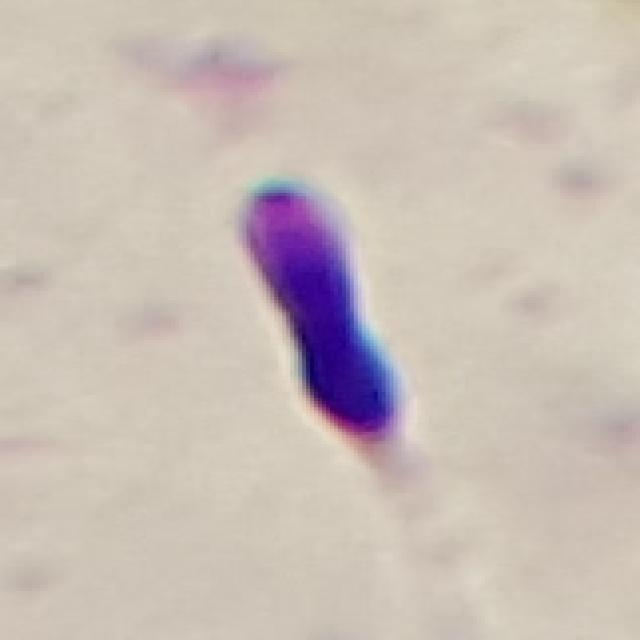abnormal sperm: (242, 180, 438, 565)
